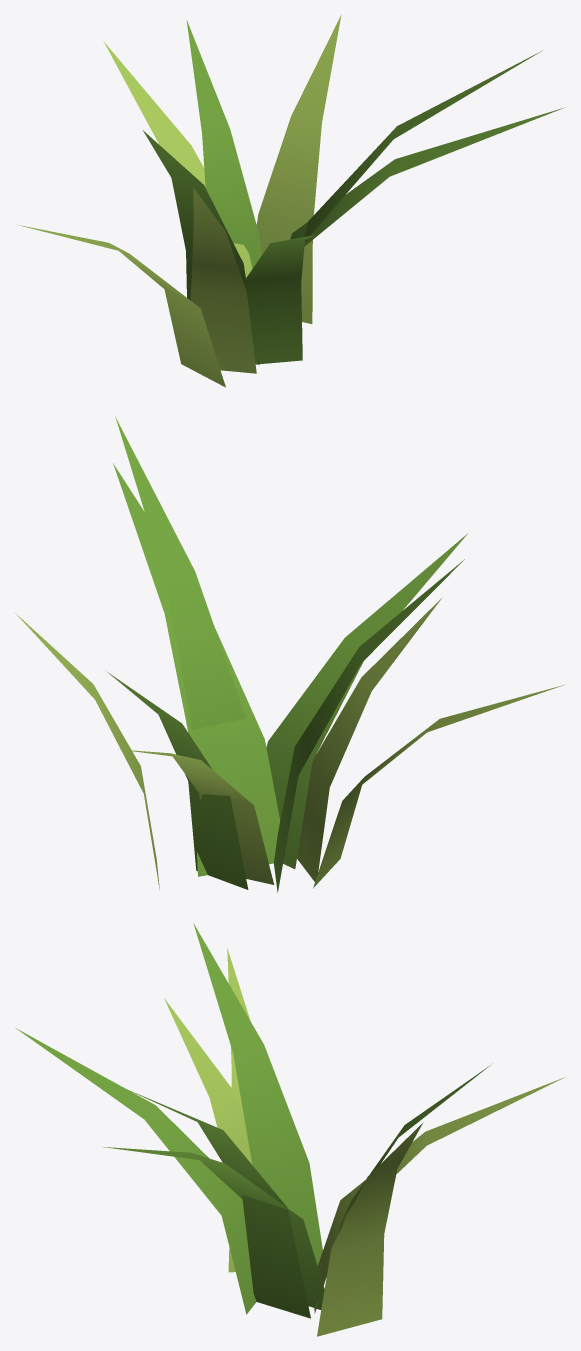
The model's file is grass_a.glb.
3 renders of one model, top to bottom at view 1: azimuth 30°, elevation 25°; view 2: azimuth 150°, elevation 25°; view 3: azimuth 270°, elevation 25°, orthographic. The views are drawn at different scales.
Visible parts, largest first — view 1: grass_a; view 2: grass_a; view 3: grass_a.
Boxes of the visible parts, left/top/right/bottom form: grass_a: left=18, top=15, right=564, bottom=387; grass_a: left=15, top=417, right=563, bottom=892; grass_a: left=15, top=923, right=564, bottom=1336.
Bounding box in the file's own units: 0.5485 × 0.3345 × 0.5275.
